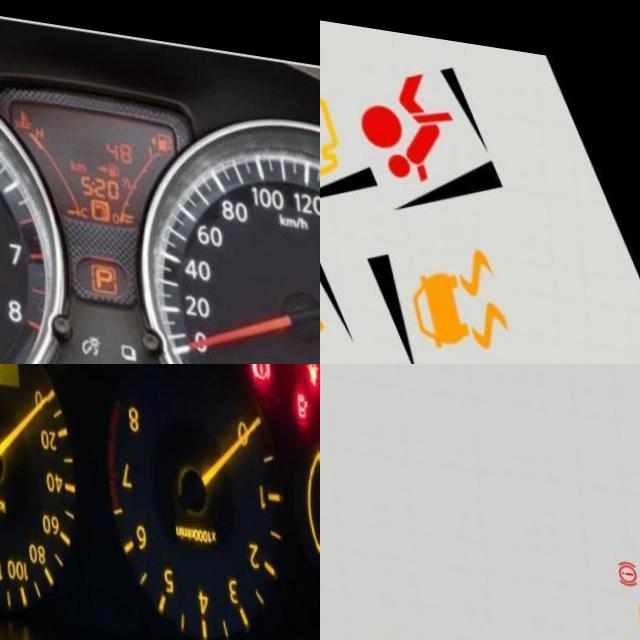Seat Belt: (302, 364, 317, 370)
